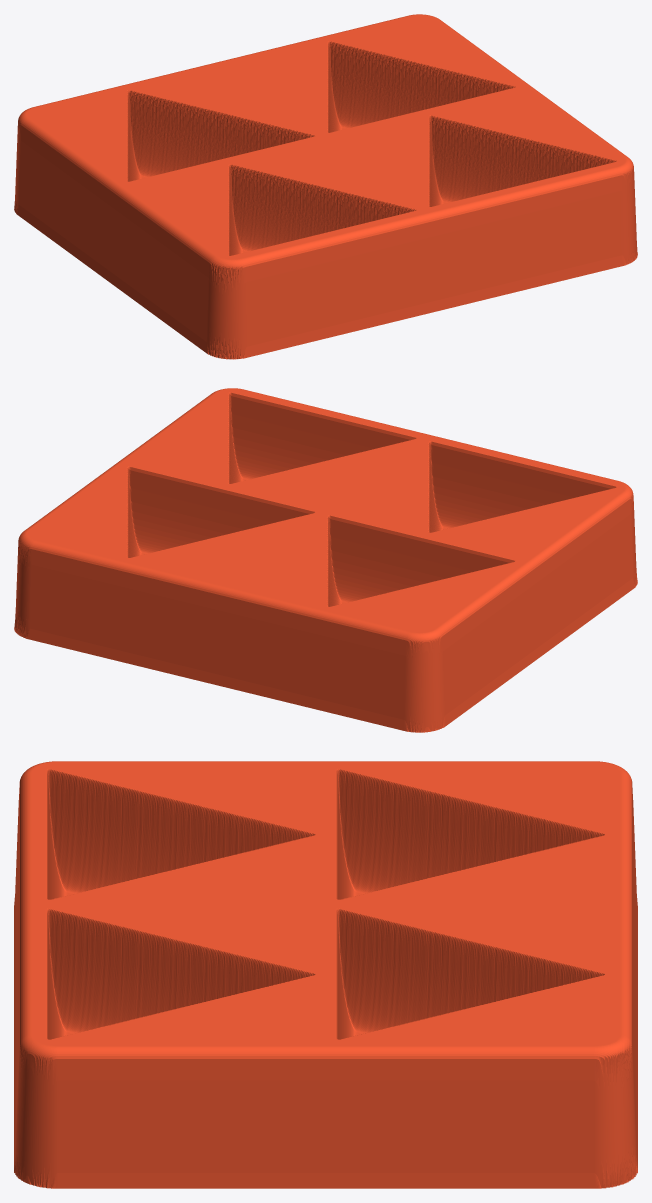
Rendered from mold.glb.
3 views of the same model, one above another, from view 1: azimuth 30°, elevation 25°; view 2: azimuth 150°, elevation 25°; view 3: azimuth 270°, elevation 25° (orthographic). The views are drawn at different scales.
Visible parts, largest first — view 1: geometry_0; view 2: geometry_0; view 3: geometry_0.
Boxes of the visible parts, box(x1,y1,x2,y2) form: geometry_0: box(14, 14, 637, 359); geometry_0: box(14, 388, 637, 732); geometry_0: box(14, 761, 637, 1188).
Size of the model in its own units: 0.1466 by 0.031 by 0.1296.
